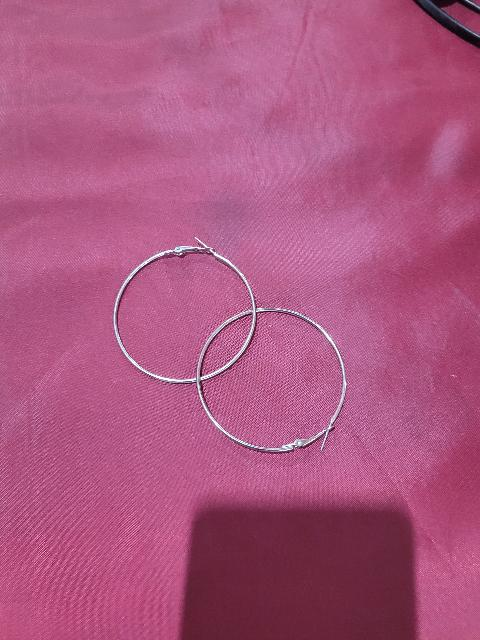Metal: (188, 301, 348, 457), (110, 238, 260, 388)
